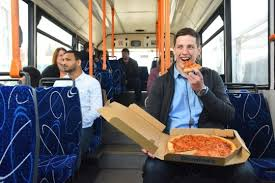eating: (152, 25, 227, 93)
